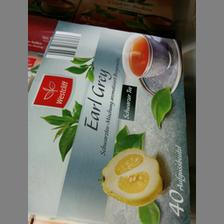Tee: (27, 18, 189, 222)
